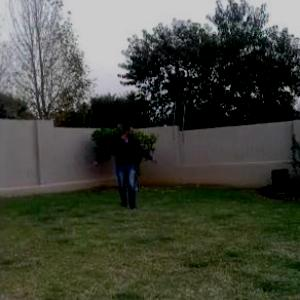land: (82, 100, 159, 223)
